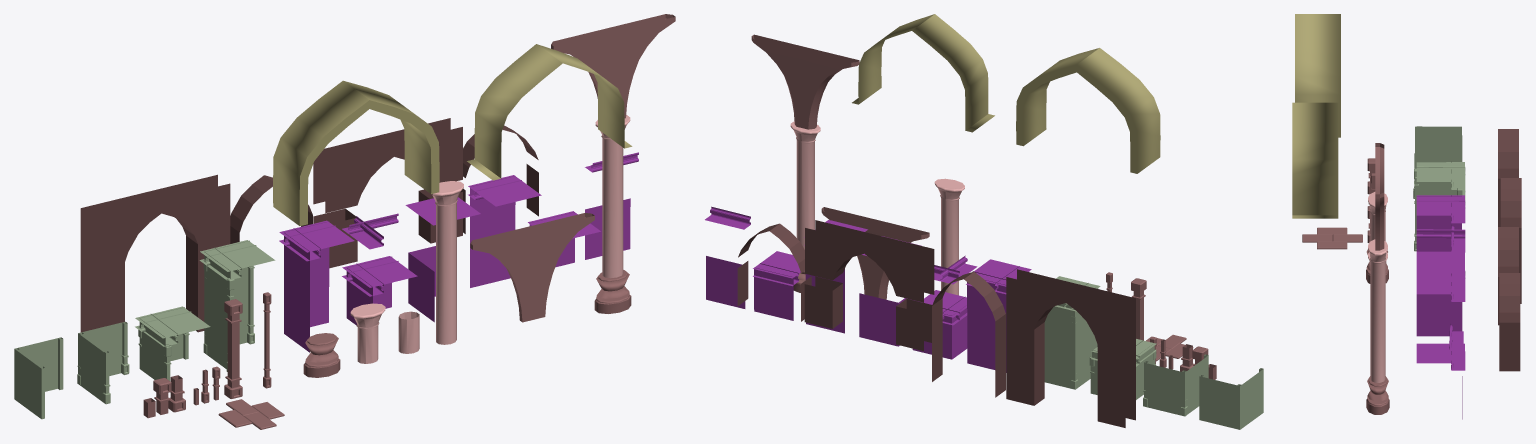
Rendered from HrisiModelsModular.fbx.
The picture shows the model from 3 angles, left to right: view 1: azimuth 30°, elevation 25°; view 2: azimuth 150°, elevation 25°; view 3: azimuth 270°, elevation 25°; orthographic projection. The views are drawn at different scales.
Visible parts, largest first — view 1: polySurface723, polySurface361, polySurface545, polySurface724, ColomTopFlatPart, polySurface716, polySurface687, polySurface660, polySurface709, ColomMidleFull, polySurface666, polySurface673 (+16 smaller); view 2: polySurface723, polySurface361, polySurface724, polySurface545, polySurface660, polySurface687, polySurface725, polySurface716, polySurface680, polySurface673, polySurface727, polySurface712 (+12 smaller); view 3: polySurface545, polySurface361, polySurface662, polySurface716, polySurface687, polySurface707, polySurface680, polySurface727, polySurface723, polySurface720, polySurface721, polySurface709 (+12 smaller).
Boxes of the visible parts, left/top/right/bottom form: polySurface723: left=80, top=174, right=230, bottom=332; polySurface361: left=273, top=80, right=439, bottom=225; polySurface545: left=467, top=44, right=632, bottom=180; polySurface724: left=313, top=118, right=462, bottom=213; ColomTopFlatPart: left=470, top=213, right=594, bottom=322; polySurface716: left=279, top=220, right=354, bottom=352; polySurface687: left=199, top=240, right=275, bottom=371; polySurface660: left=551, top=14, right=675, bottom=118; polySurface709: left=468, top=175, right=541, bottom=287; ColomMidleFull: left=432, top=181, right=463, bottom=344; polySurface666: left=135, top=306, right=210, bottom=380; polySurface673: left=77, top=321, right=129, bottom=404; polySurface723: left=1006, top=269, right=1135, bottom=427; polySurface361: left=1016, top=48, right=1160, bottom=173; polySurface724: left=805, top=220, right=934, bottom=302; polySurface545: left=852, top=14, right=994, bottom=132; polySurface660: left=751, top=34, right=859, bottom=129; polySurface687: left=1044, top=276, right=1100, bottom=389; polySurface725: left=804, top=276, right=932, bottom=351; polySurface716: left=966, top=259, right=1031, bottom=372; polySurface680: left=1199, top=368, right=1263, bottom=429; polySurface673: left=1143, top=354, right=1208, bottom=416; polySurface727: left=932, top=272, right=1005, bottom=397; polySurface712: left=753, top=251, right=800, bottom=320; polySurface545: left=1292, top=102, right=1338, bottom=218; polySurface361: left=1295, top=14, right=1340, bottom=137; polySurface662: left=1368, top=239, right=1387, bottom=382; polySurface716: left=1416, top=195, right=1465, bottom=251; polySurface687: left=1414, top=161, right=1465, bottom=251; polySurface707: left=1416, top=294, right=1462, bottom=336; polySurface680: left=1415, top=126, right=1462, bottom=161; polySurface727: left=1500, top=178, right=1521, bottom=303; polySurface723: left=1498, top=129, right=1518, bottom=226; polySurface720: left=1499, top=273, right=1520, bottom=322; polySurface721: left=1499, top=322, right=1520, bottom=371; polySurface709: left=1416, top=275, right=1465, bottom=301.
Size of the model in its own units: 20.31 by 9.87 by 7.57.
